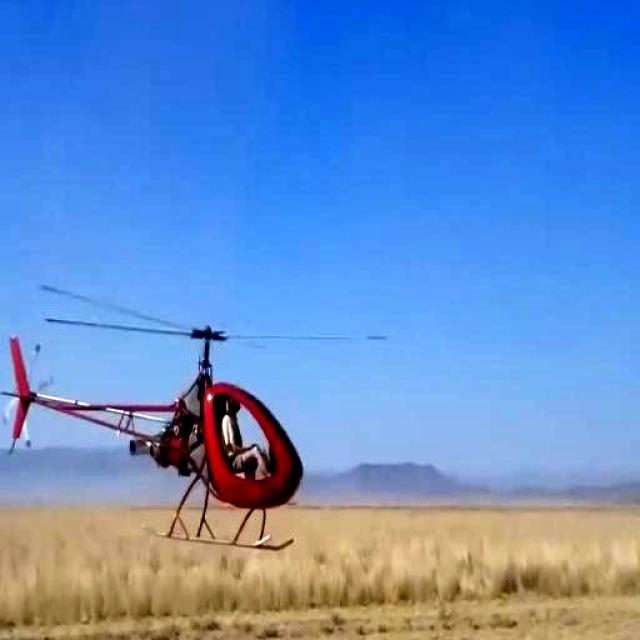drone: (0, 306, 308, 566)
